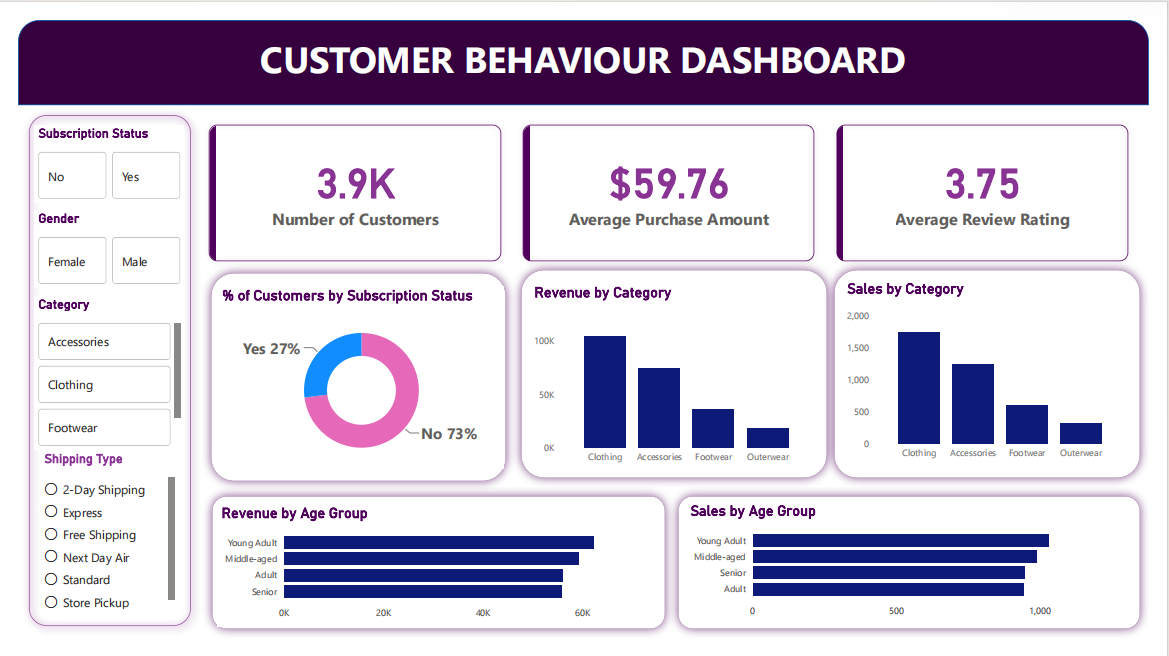

Layout of this report page (visuals, bound fields, positions):
{"tool":"powerbi","page":{"name":"Page 1","canvas":[1500,820],"ordinal":0},"visuals":[{"type":"shape","box":[0,0,1500,112.5],"z":0},{"type":"textbox","box":[0,12.5,1500,85],"z":1000},{"type":"shape","box":[655,320,430,300],"z":1000,"group":"g2"},{"type":"shape","box":[244,324,415,300],"z":1000,"group":"g1"},{"type":"shape","box":[245,620,625,200],"z":2000},{"type":"cardVisual","fields":{"Data":["customer_behavior customers.Number of Customers","customer_behavior customers.Average Purchase Amount","customer_behavior customers.Average Review Rating"]},"box":[226,112,1274,236],"z":3000},{"type":"shape","box":[1070,320,430,300],"z":3000,"group":"g3"},{"type":"group","id":"g1","title":"Group 1","box":[244,324,416,300],"z":4000},{"type":"group","id":"g2","title":"Group 2","box":[655,320,430,300],"z":5000},{"type":"group","id":"g3","title":"Group 3","box":[1070,320,430,300],"z":6000},{"type":"clusteredColumnChart","title":"Revenue by Category","fields":{"Y":["Sum(customer_behavior customers.purchase_amount)"],"Category":["customer_behavior customers.category"]},"box":[680,350,377.5,247.5],"z":6000,"group":"g2"},{"type":"donutChart","title":"% of Customers by Subscription Status","fields":{"Category":["customer_behavior customers.subscription_status"],"Y":["CountNonNull(customer_behavior customers.customer_id)"]},"box":[265.7,354.3,378.8,242.2],"z":6000,"group":"g1"},{"type":"clusteredColumnChart","title":"Sales by Category","fields":{"Y":["CountNonNull(customer_behavior customers.customer_id)"],"Category":["customer_behavior customers.category"]},"box":[1095,345,377.5,247.5],"z":6001,"group":"g3"},{"type":"shape","box":[0,111.4,244,708],"z":7000},{"type":"advancedSlicerVisual","title":"Subscription Status","fields":{"Values":["customer_behavior customers.subscription_status"]},"box":[21.7,140,198.6,102.9],"z":8000},{"type":"advancedSlicerVisual","title":"Gender","fields":{"Values":["customer_behavior customers.gender"]},"box":[21.7,253.3,198.6,102.9],"z":9000},{"type":"advancedSlicerVisual","title":"Category","fields":{"Values":["customer_behavior customers.category"]},"box":[21.7,366.7,198.6,204.3],"z":10000},{"type":"listSlicer","title":"Shipping Type","fields":{"Values":["customer_behavior customers.shipping_type"]},"box":[30,571.7,183.3,215],"z":11000},{"type":"clusteredBarChart","title":"Revenue by Age Group","fields":{"Y":["Sum(customer_behavior customers.purchase_amount)"],"Category":["customer_behavior customers.age_group"]},"box":[265,643.3,565,161.7],"z":12000},{"type":"shape","box":[862.5,620,637.5,200],"z":13000},{"type":"clusteredBarChart","title":"Sales by Age Group","fields":{"Y":["CountNonNull(customer_behavior customers.customer_id)"],"Category":["customer_behavior customers.age_group"]},"box":[886.7,640,565,161.7],"z":13001}]}

Visuals, with their boxes in screenshot pixels (x1, y1, x2, y2), scaled from the page's 1500x820 canvas onto the 1169x656 screenshot:
shape: l=0, t=0, r=1168, b=90
textbox: l=0, t=10, r=1168, b=78
shape: l=510, t=256, r=846, b=496
shape: l=190, t=259, r=514, b=499
shape: l=191, t=496, r=678, b=655
cardVisual - customer_behavior customers.Number of Customers x customer_behavior customers.Average Purchase Amount: l=176, t=90, r=1168, b=278
shape: l=834, t=256, r=1168, b=496
"Group 1" group: l=190, t=259, r=514, b=499
"Group 2" group: l=510, t=256, r=846, b=496
"Group 3" group: l=834, t=256, r=1168, b=496
"Revenue by Category" clusteredColumnChart: l=530, t=280, r=824, b=478
"% of Customers by Subscription Status" donutChart: l=207, t=283, r=502, b=477
"Sales by Category" clusteredColumnChart: l=853, t=276, r=1148, b=474
shape: l=0, t=89, r=190, b=655
"Subscription Status" advancedSlicerVisual: l=17, t=112, r=172, b=194
"Gender" advancedSlicerVisual: l=17, t=203, r=172, b=285
"Category" advancedSlicerVisual: l=17, t=293, r=172, b=457
"Shipping Type" listSlicer: l=23, t=457, r=166, b=629
"Revenue by Age Group" clusteredBarChart: l=207, t=515, r=647, b=644
shape: l=672, t=496, r=1168, b=655
"Sales by Age Group" clusteredBarChart: l=691, t=512, r=1131, b=641
